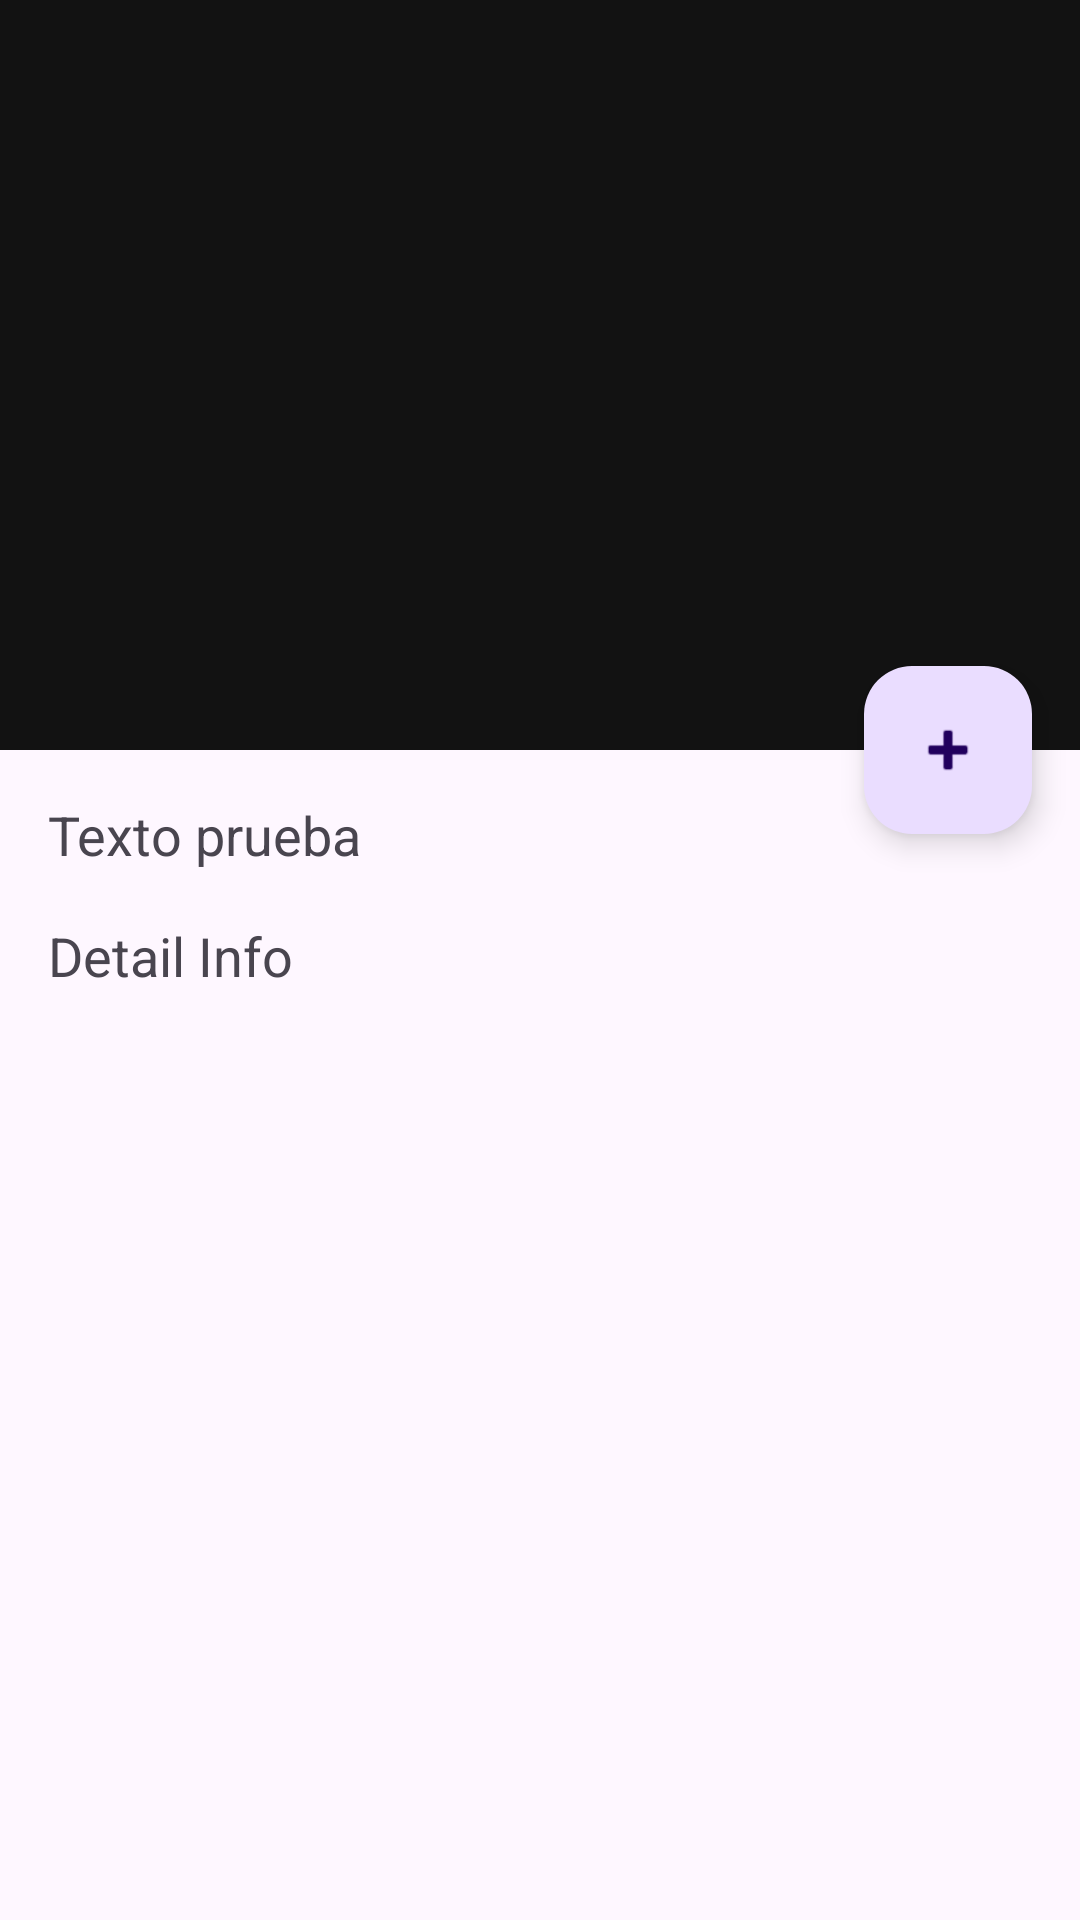

Screen size 1080 × 1920. Icon name, then its center in pixels as [x,y]:
add: [948,750]
